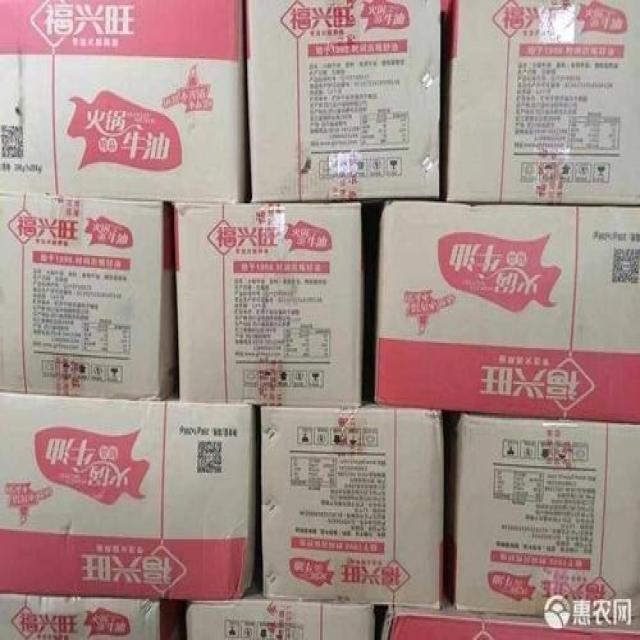box: (376, 201, 639, 422), (0, 391, 259, 603), (1, 1, 247, 203), (445, 412, 638, 631), (442, 2, 639, 205), (245, 1, 441, 203), (257, 402, 444, 608), (172, 201, 360, 404), (0, 191, 178, 404), (175, 589, 380, 638), (377, 604, 638, 637), (2, 591, 182, 638)
